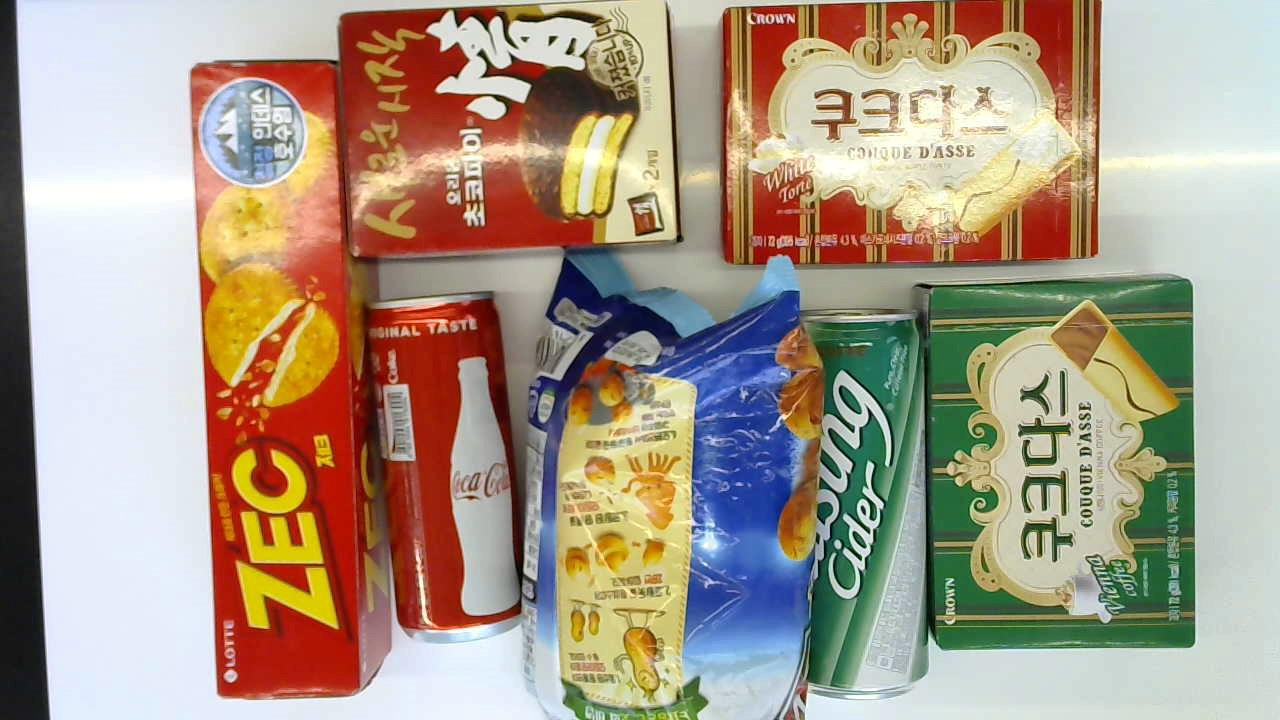chocopie: (334, 0, 686, 264)
cidar: (799, 308, 929, 705)
coke: (368, 290, 530, 641)
couque_coffee: (916, 274, 1196, 646)
couque_white: (721, 1, 1100, 263)
squid_peanut: (520, 270, 798, 720)
zec: (187, 59, 390, 699)
